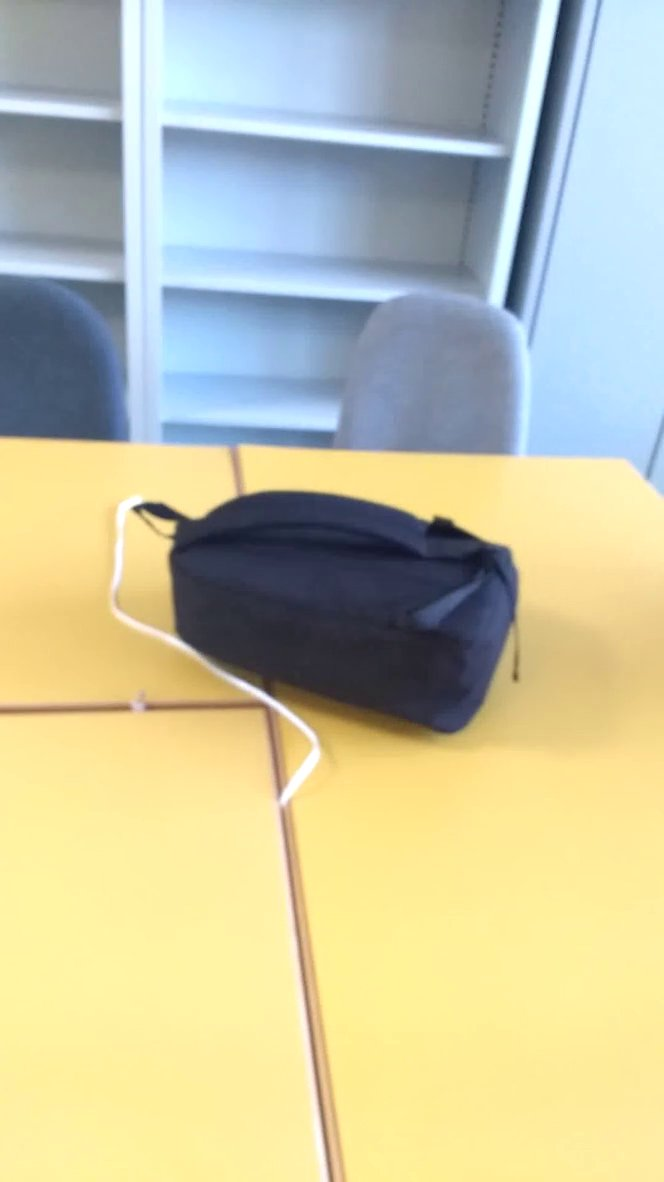bag: (125, 480, 538, 753)
chair: (329, 275, 544, 478)
